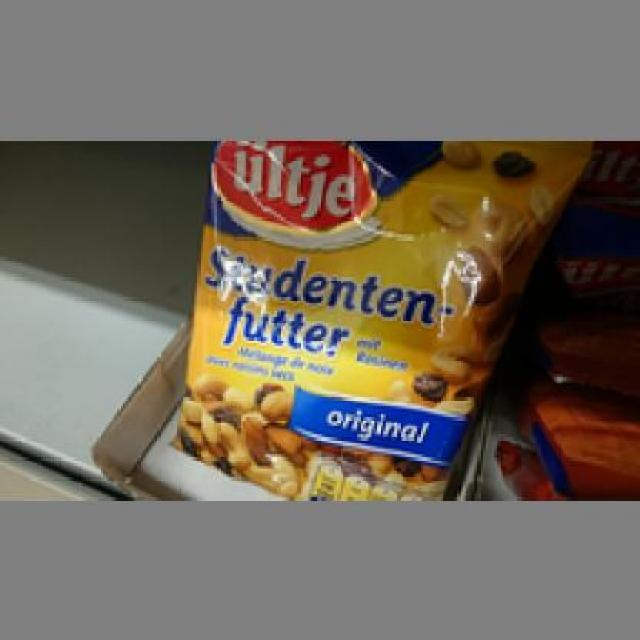Nuts: (170, 137, 586, 497)
